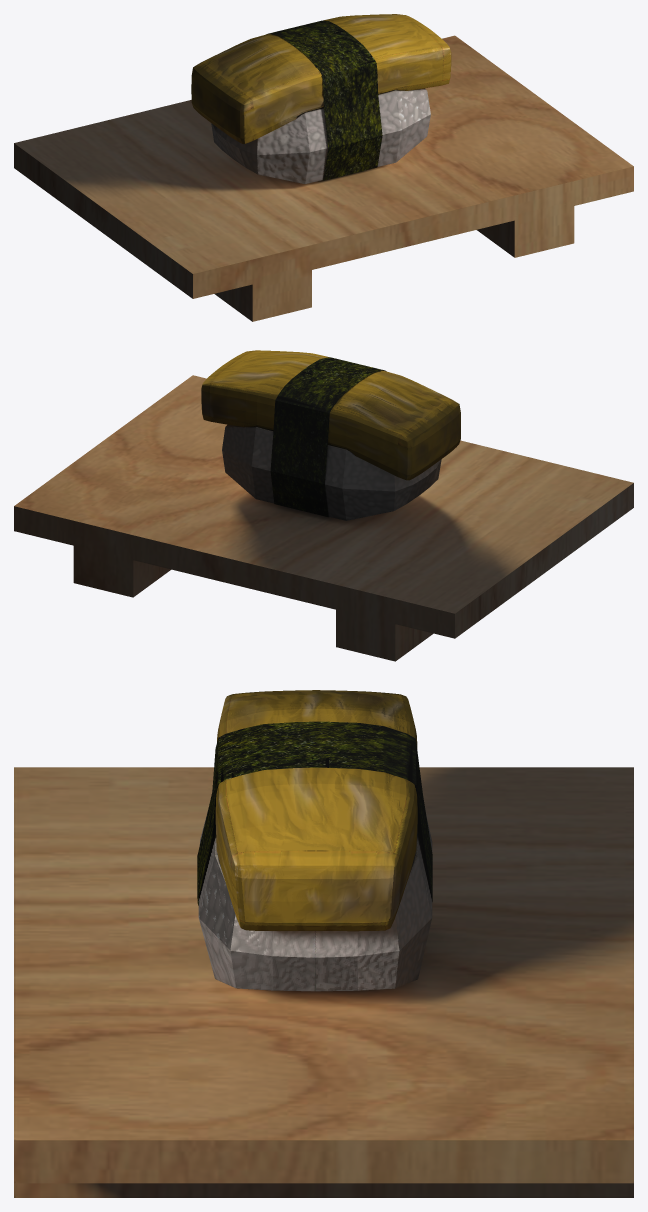
The model's file is sushi_tamago.glb.
3 renders of one model, top to bottom at view 1: azimuth 30°, elevation 25°; view 2: azimuth 150°, elevation 25°; view 3: azimuth 270°, elevation 25°, orthographic. The views are drawn at different scales.
Parts seen in each view (by area): view 1: geta.vox, tamago, nori, shari; view 2: geta.vox, tamago, nori, shari; view 3: geta.vox, tamago, shari, nori.
Part boxes in pixels (x1,y1,x2,y2): geta.vox: (14, 35, 633, 321); tamago: (191, 14, 451, 143); nori: (266, 20, 382, 180); shari: (211, 88, 430, 183); geta.vox: (14, 375, 633, 661); tamago: (201, 350, 460, 480); nori: (270, 357, 386, 517); shari: (222, 424, 441, 520); geta.vox: (14, 767, 633, 1197); tamago: (215, 690, 417, 931); shari: (198, 795, 432, 991); nori: (197, 721, 432, 905).
Size of the model in its own units: 3.7 by 1.45 by 2.6.
Materials: 4 (4 with a texture image).
